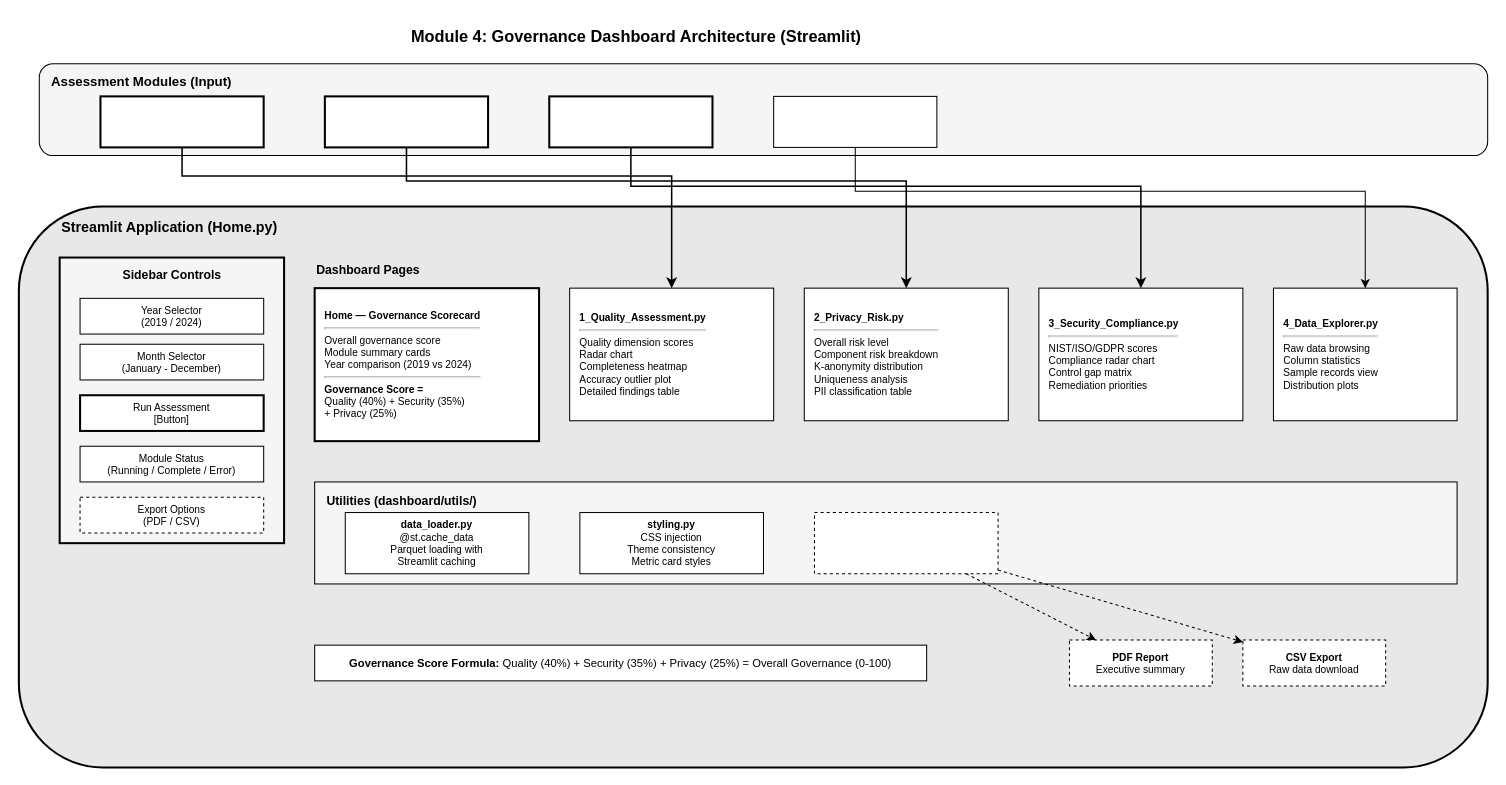
This 1506x785 diagram has some shape labels left out. Each missing label, with the box of its shape:
data_loader.py NYC TLC DataFrames (cached): (773, 95, 937, 147)
export_reports.py PDF generation CSV data export Download handlers: (813, 512, 998, 574)
Module 1 Quality Profiler (JSON results): (99, 95, 264, 148)
Module 2 Privacy Assessor (JSON results): (323, 95, 489, 148)
Module 3 Security Assessor (JSON results): (548, 95, 713, 148)
